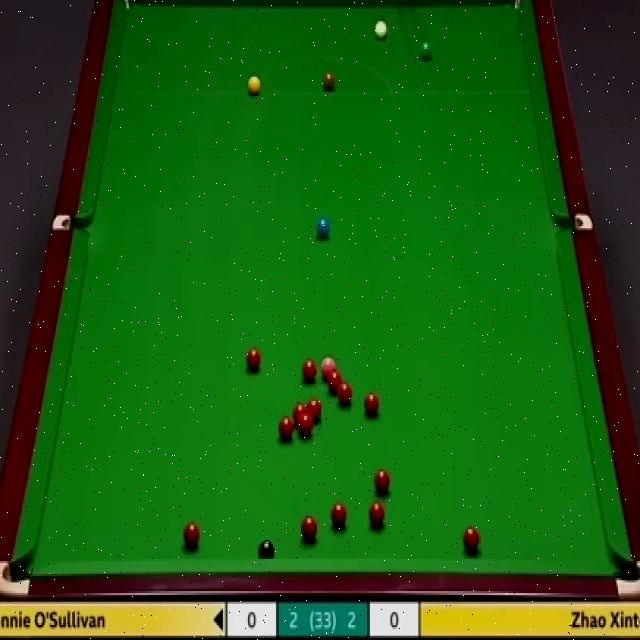black-ball: (258, 538, 276, 562)
blue-ball: (316, 219, 331, 239)
brown-ball: (322, 72, 334, 92)
green-ball: (418, 39, 434, 62)
pink-ball: (320, 354, 336, 378)
red-ball: (372, 467, 392, 496), (368, 499, 386, 529), (463, 526, 481, 554), (300, 516, 319, 542), (244, 345, 261, 373), (331, 500, 348, 528), (183, 521, 200, 547), (337, 383, 353, 409), (301, 357, 317, 383), (278, 416, 294, 440), (364, 392, 380, 416), (298, 411, 313, 436), (308, 397, 323, 422), (326, 371, 343, 391), (293, 403, 308, 421)
white-ball: (373, 17, 387, 40)
yellow-ball: (247, 72, 260, 96)
